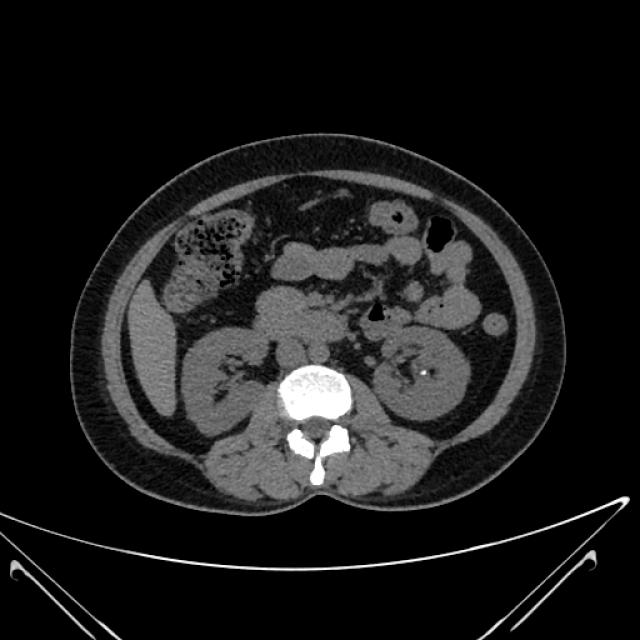kidney: (176, 329, 274, 439), (369, 323, 473, 424)
stone: (417, 366, 429, 376)
